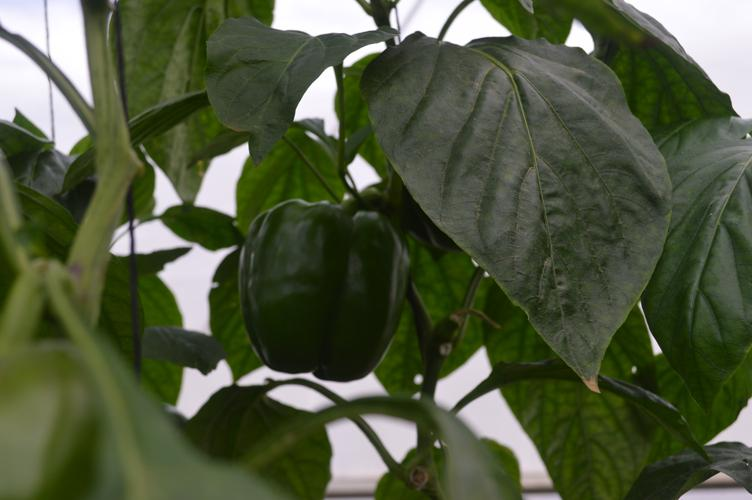BellPepper: (238, 200, 416, 386)
